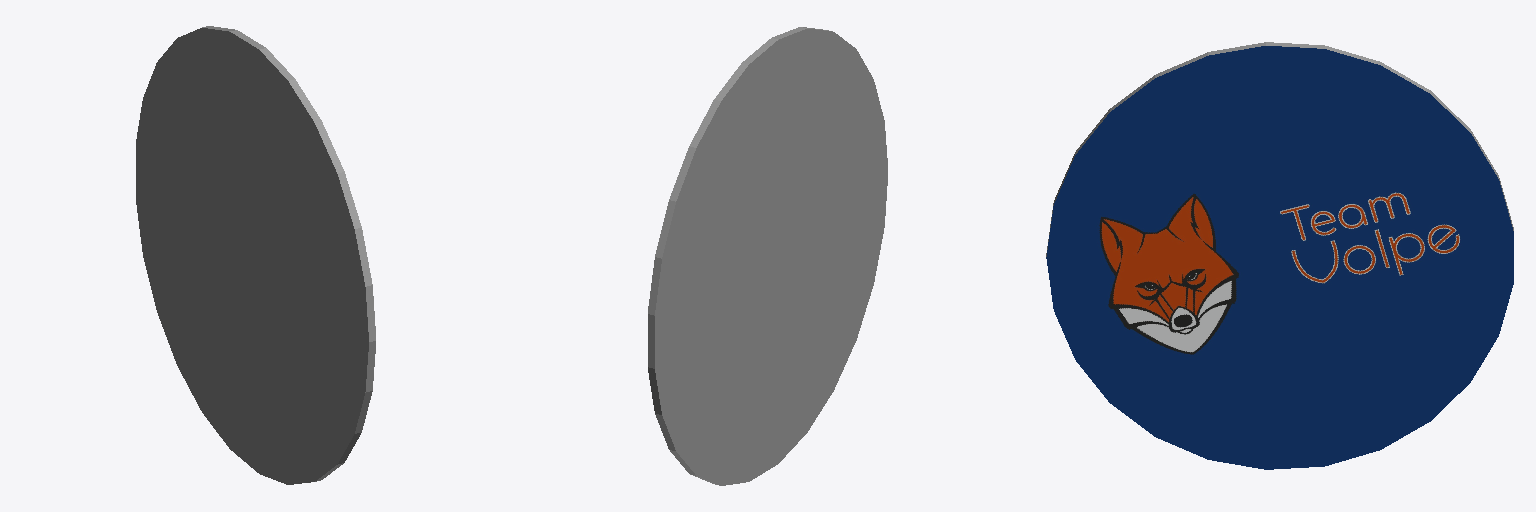
The picture shows the model from 3 angles: view 1: azimuth 30°, elevation 25°; view 2: azimuth 150°, elevation 25°; view 3: azimuth 270°, elevation 25°; orthographic projection.
Visible parts, largest first — view 1: Geometry.001; view 2: Geometry.001; view 3: Geometry.001.
Part boxes in pixels (x1,y1,x2,y2): Geometry.001: (136, 26, 375, 484); Geometry.001: (648, 27, 887, 485); Geometry.001: (1046, 42, 1513, 469).
Bounding box in the file's own units: 0.009 × 0.499 × 0.498.
Materials: 2 (1 with a texture image).